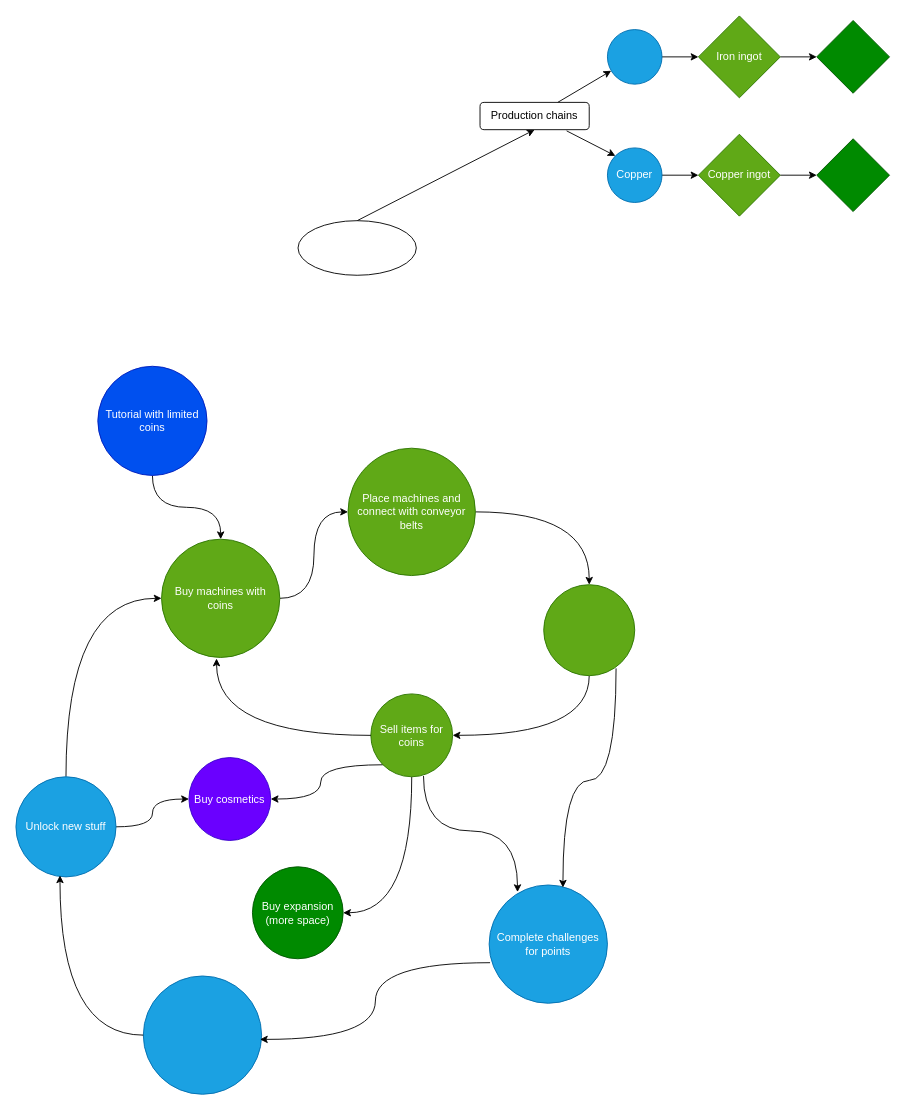
The diagram is 905 pixels wide and 1110 high, and some of its shapes have lost their labels. Here are the shapes that lost their labels. From the top down, the centre of each, then its label:
At point (634, 56): "Iron".
At point (853, 56): "Screw".
At point (853, 175): "Copper wire".
At point (356, 247): "Funky Factories".
At point (589, 630): "Produce items".
At point (202, 1034): "Complete series of challenges to level up".
